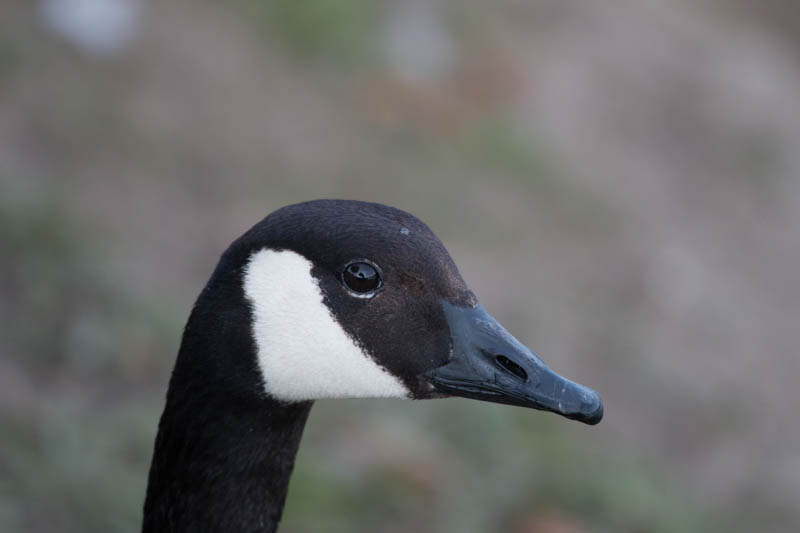goose-head: (164, 198, 604, 426)
